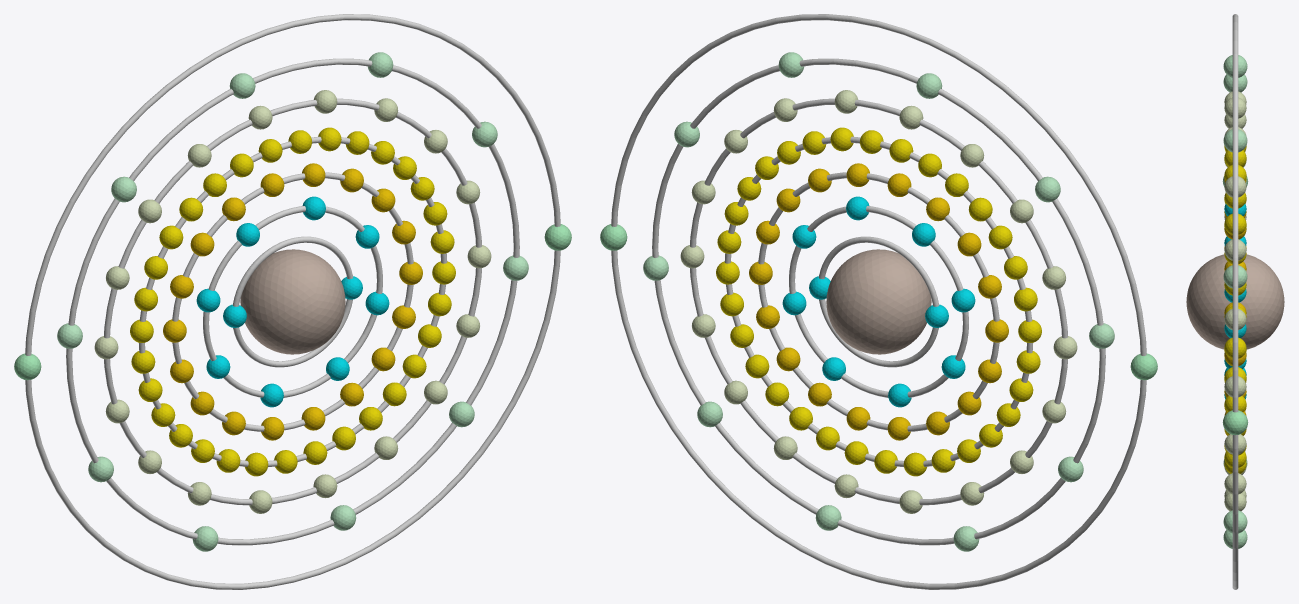
3 renders of one model, left to right at view 1: azimuth 30°, elevation 25°; view 2: azimuth 150°, elevation 25°; view 3: azimuth 270°, elevation 25°, orthographic. The views are drawn at different scales.
Parts seen in each view (by area): view 1: world; view 2: world; view 3: world.
Part boxes in pixels (x1,y1,x2,y2): world: (14, 14, 571, 589); world: (600, 14, 1157, 589); world: (1186, 14, 1284, 589).
Size of the model in its own units: 2.67 by 2.59 by 0.44.
